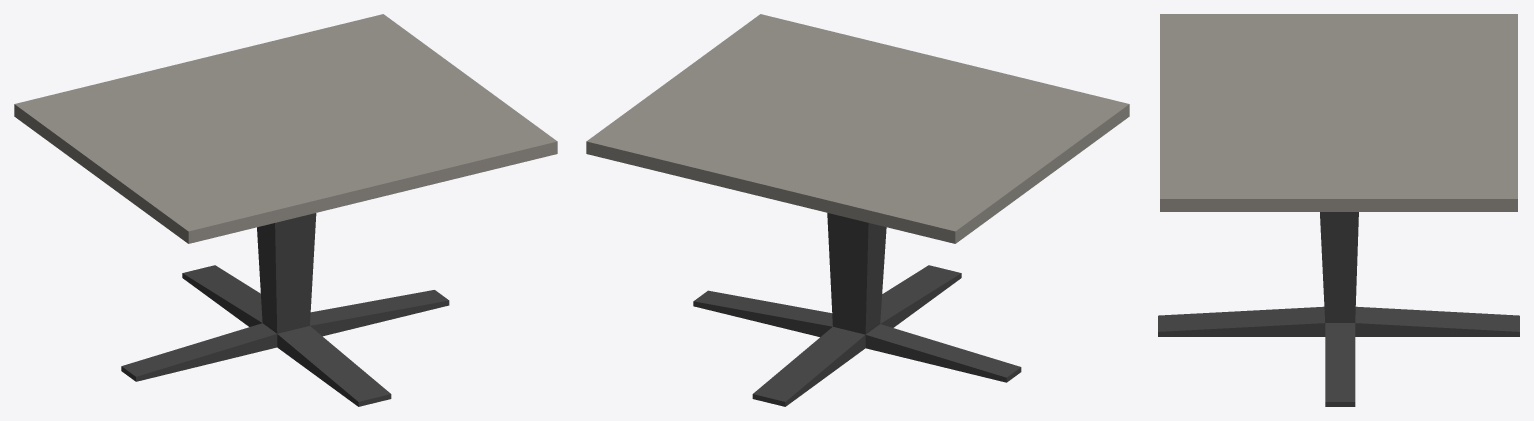
Rendered from SM_Table_03.FBX.
The picture shows the model from 3 angles, left to right: view 1: azimuth 30°, elevation 25°; view 2: azimuth 150°, elevation 25°; view 3: azimuth 270°, elevation 25°; orthographic projection. The views are drawn at different scales.
Visible parts, largest first — view 1: SM_Table_03; view 2: SM_Table_03; view 3: SM_Table_03.
Boxes of the visible parts, <box> form: SM_Table_03: <box>14,14,557,406</box>; SM_Table_03: <box>586,14,1129,406</box>; SM_Table_03: <box>1158,14,1519,406</box>.
Bounding box in the file's own units: 166 × 137 × 93.07.
